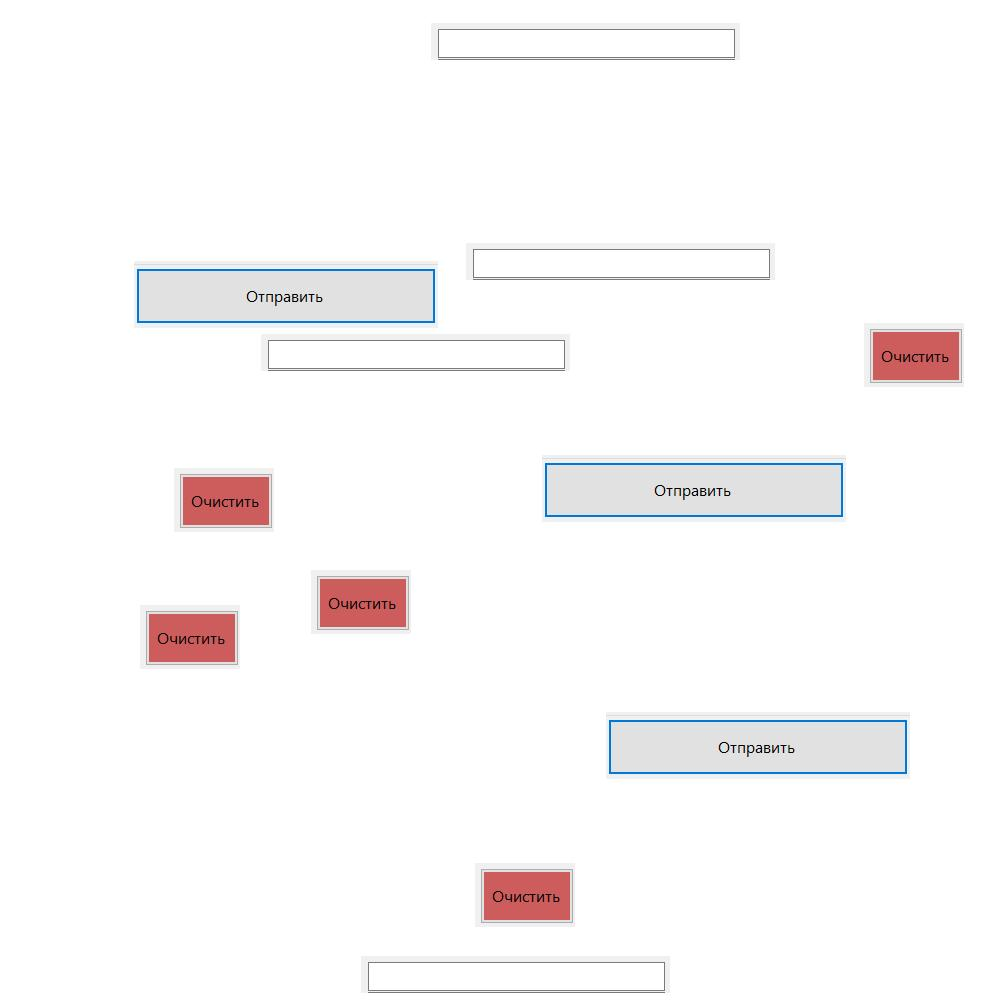Button: (606, 712, 910, 779), (134, 261, 438, 328), (542, 455, 846, 522), (311, 570, 411, 634), (174, 468, 274, 532), (475, 863, 575, 927), (864, 323, 964, 387), (140, 605, 240, 669)
EditText-: (361, 956, 670, 993), (261, 334, 570, 371), (431, 23, 740, 60), (466, 243, 775, 280)
